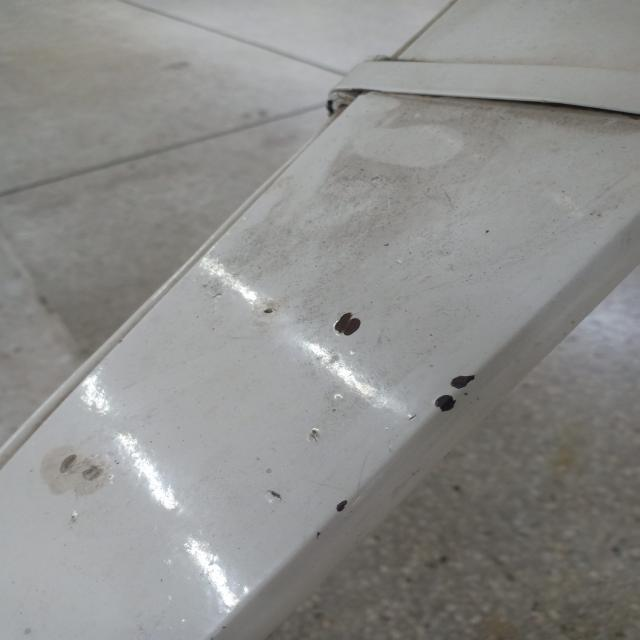Rupture: (30, 429, 120, 522), (245, 463, 352, 540), (412, 357, 483, 445), (310, 301, 371, 360)
